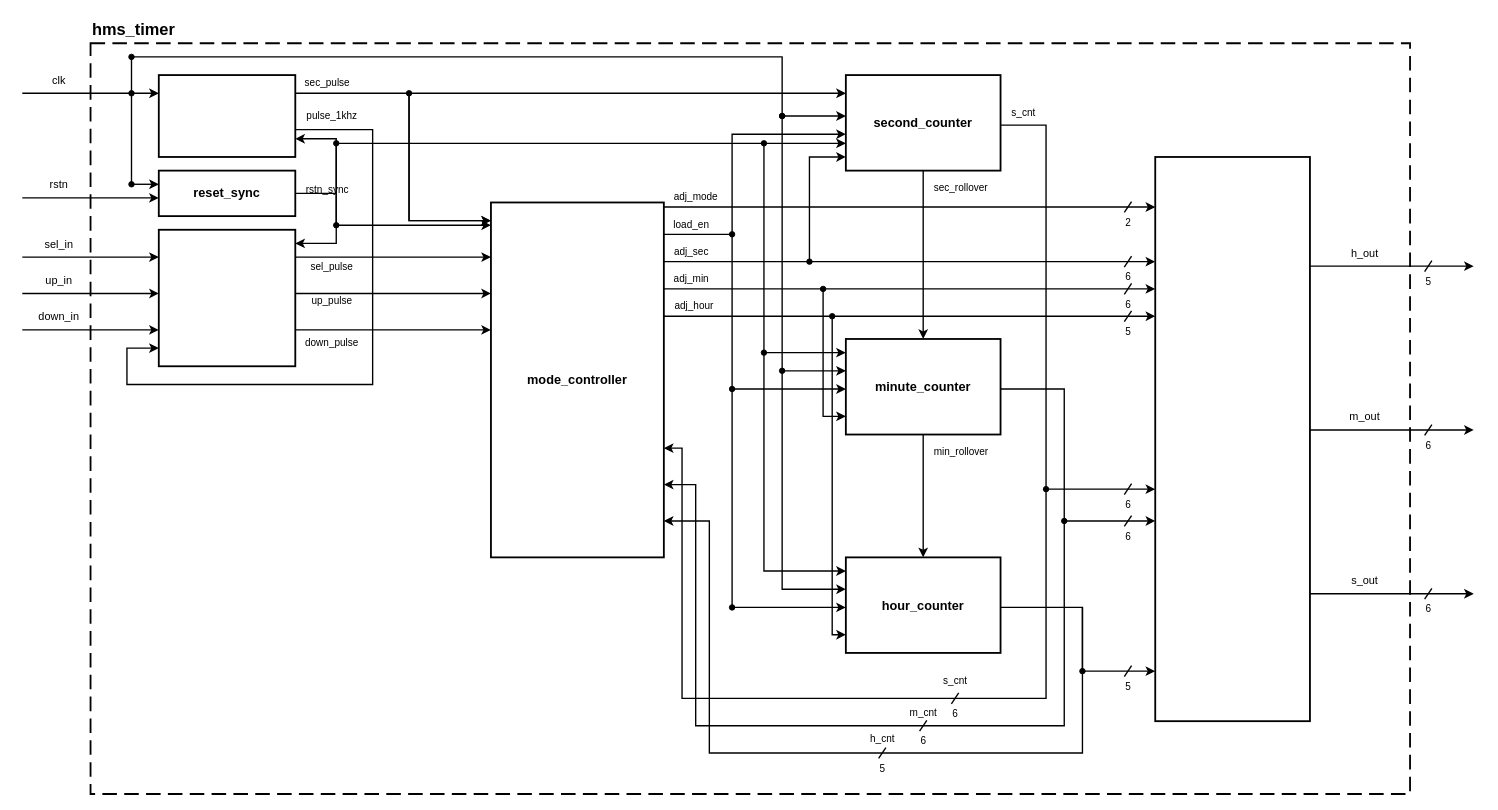
The diagram is 1498 pixels wide and 810 high, and some of its shapes have lost their labels. Here are the shapes that lost their labels. From the top down, the centre of each, then its label:
[226,115]: clk_prescaler
[226,297]: button_controller
[1232,439]: output_switch
